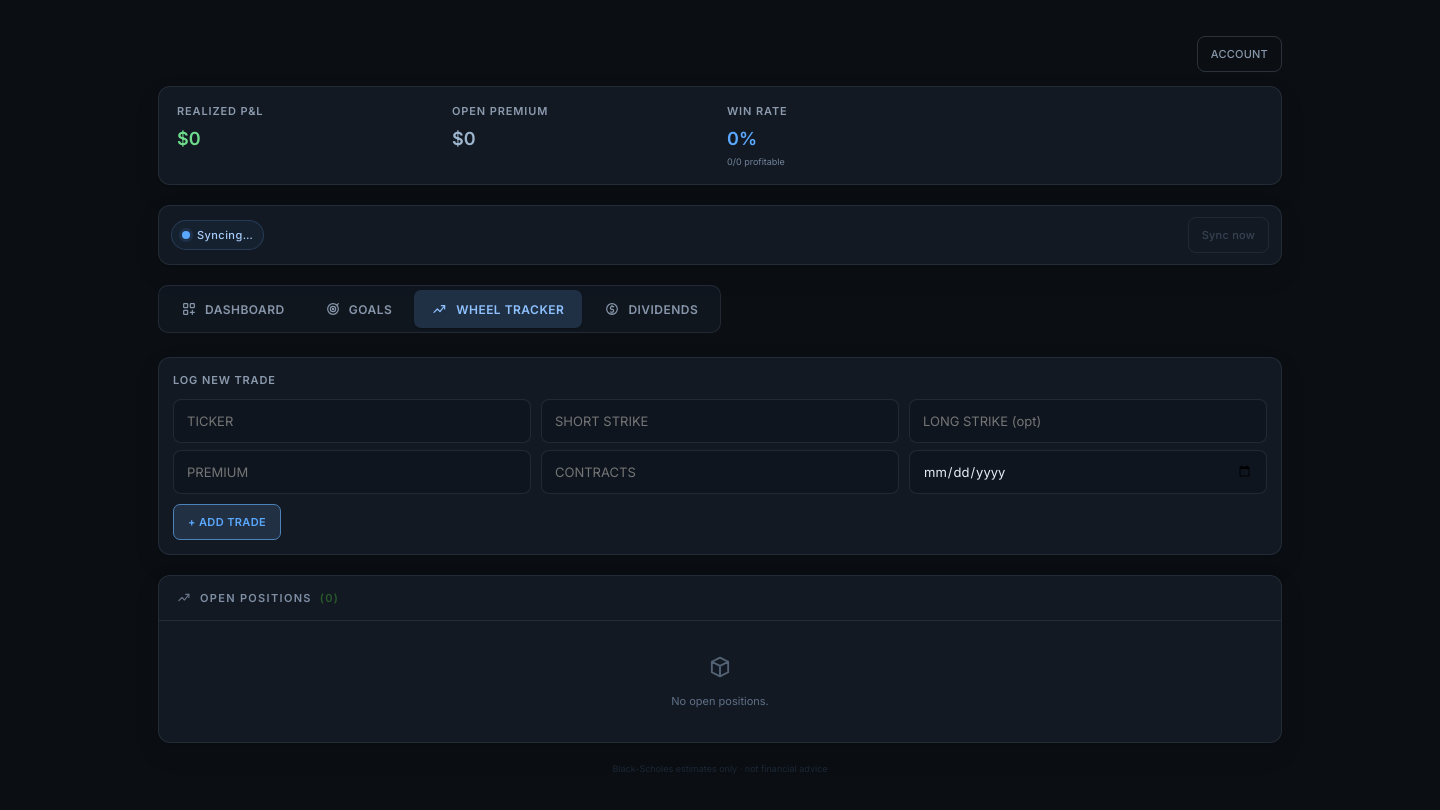
Test case: shows dividend validation errors without saving invalid data
Click the button "DIVIDENDS": (651,309) [586,290,716,328]
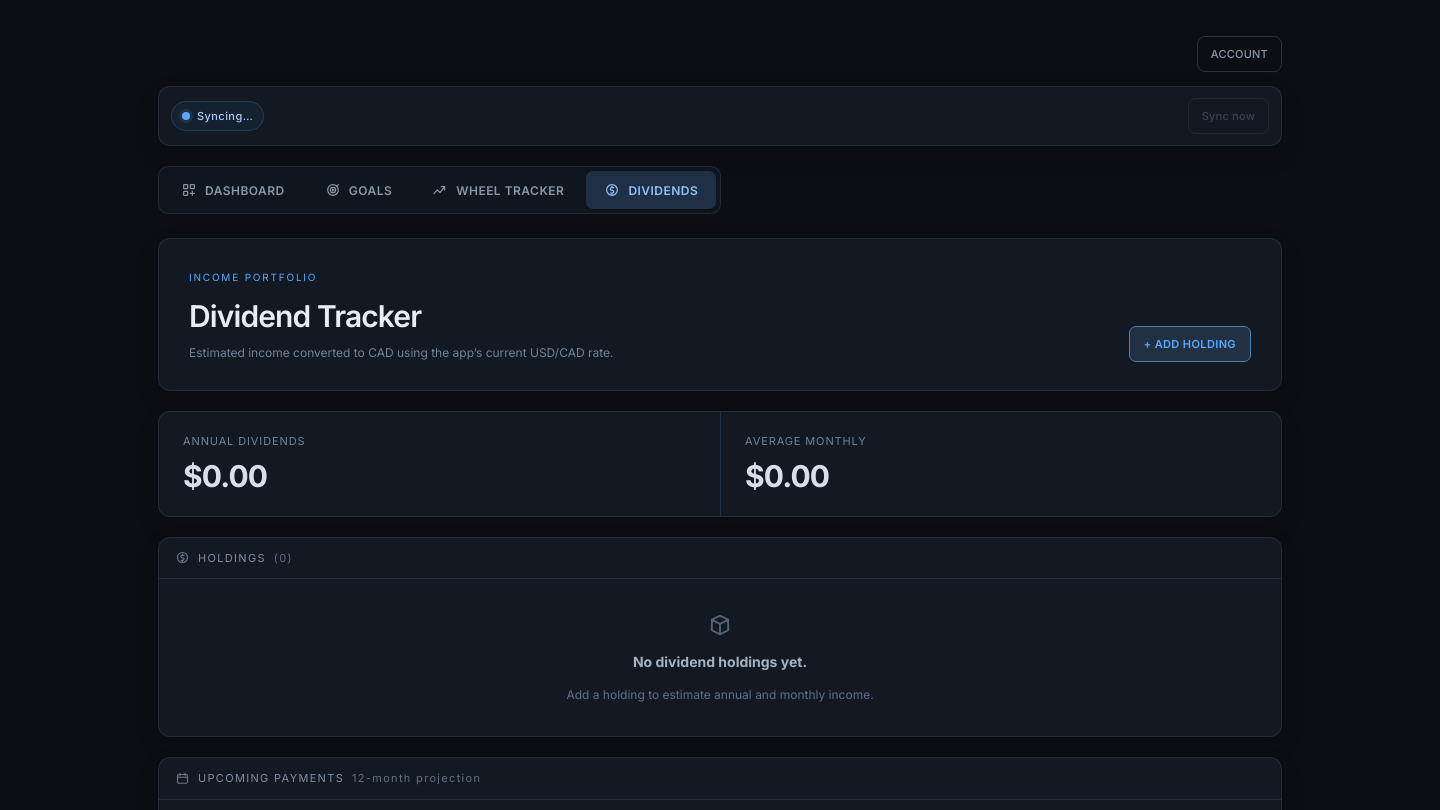
Click the button "+ ADD HOLDING": (1190,344) [1129,326,1251,362]
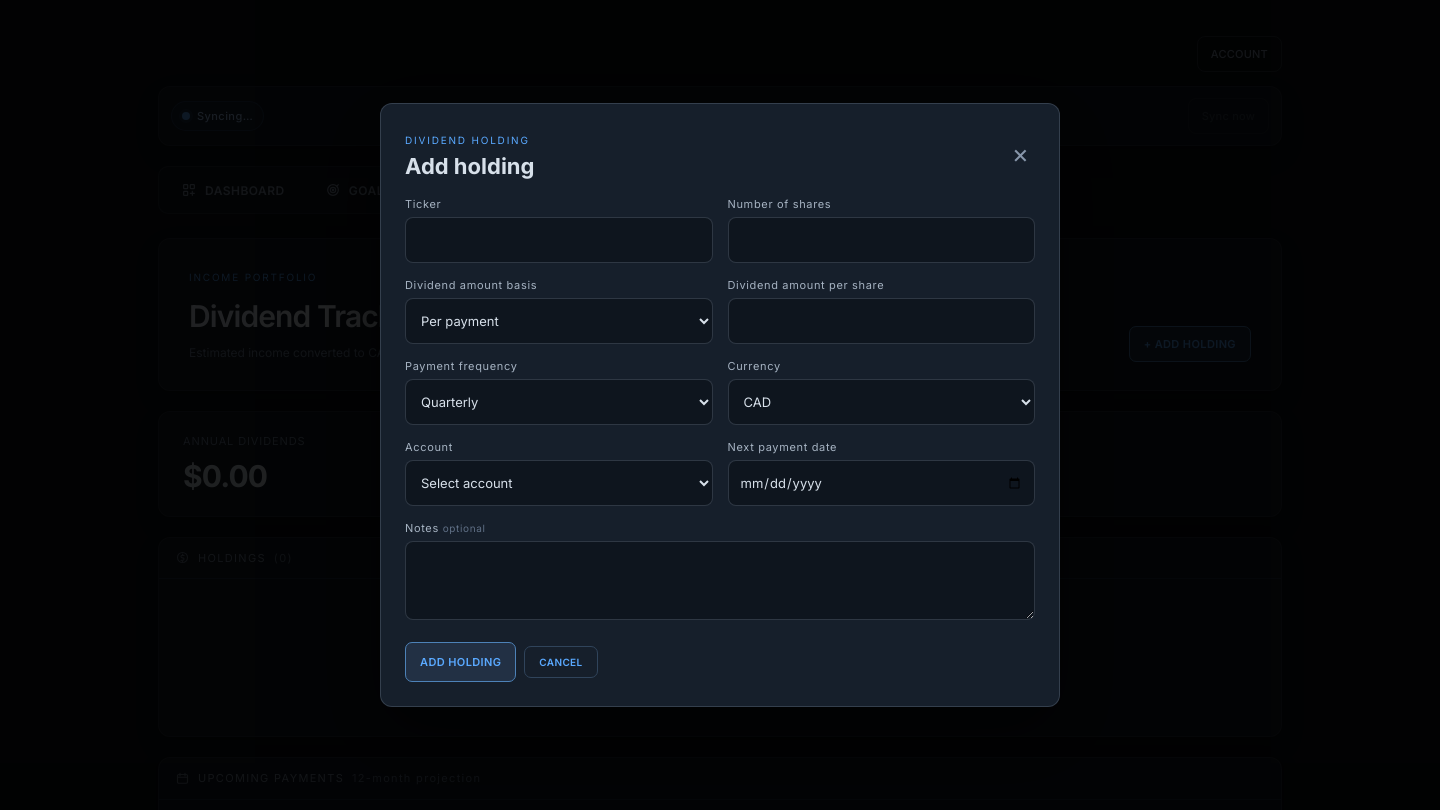
Click the button "ADD HOLDING": (461,662) [405,642,516,682]
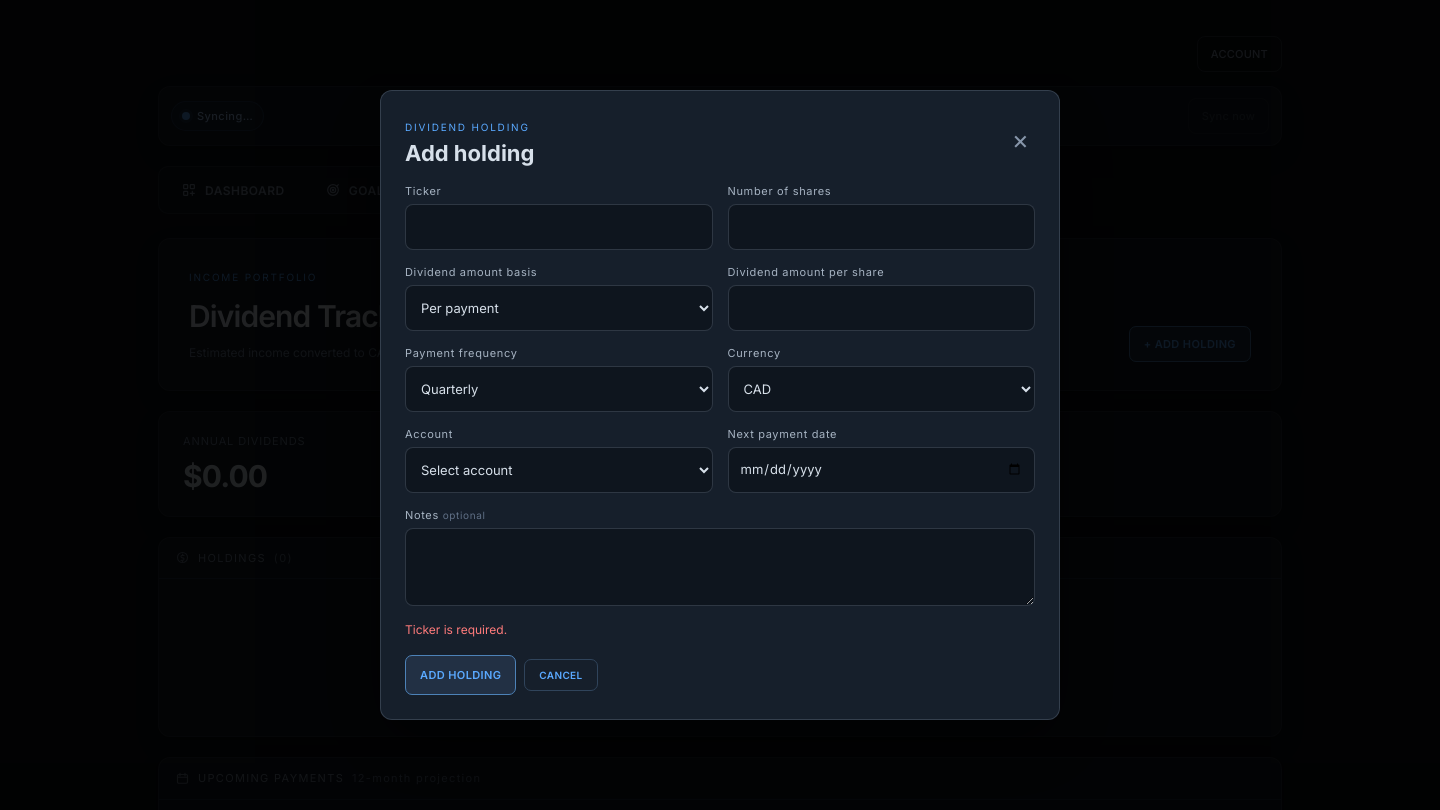
expect the message reads "Ticker is required.": met, box [405,622,507,637]
